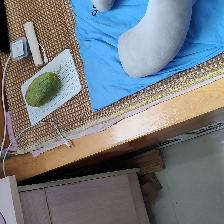gua: (19, 75, 52, 99)
